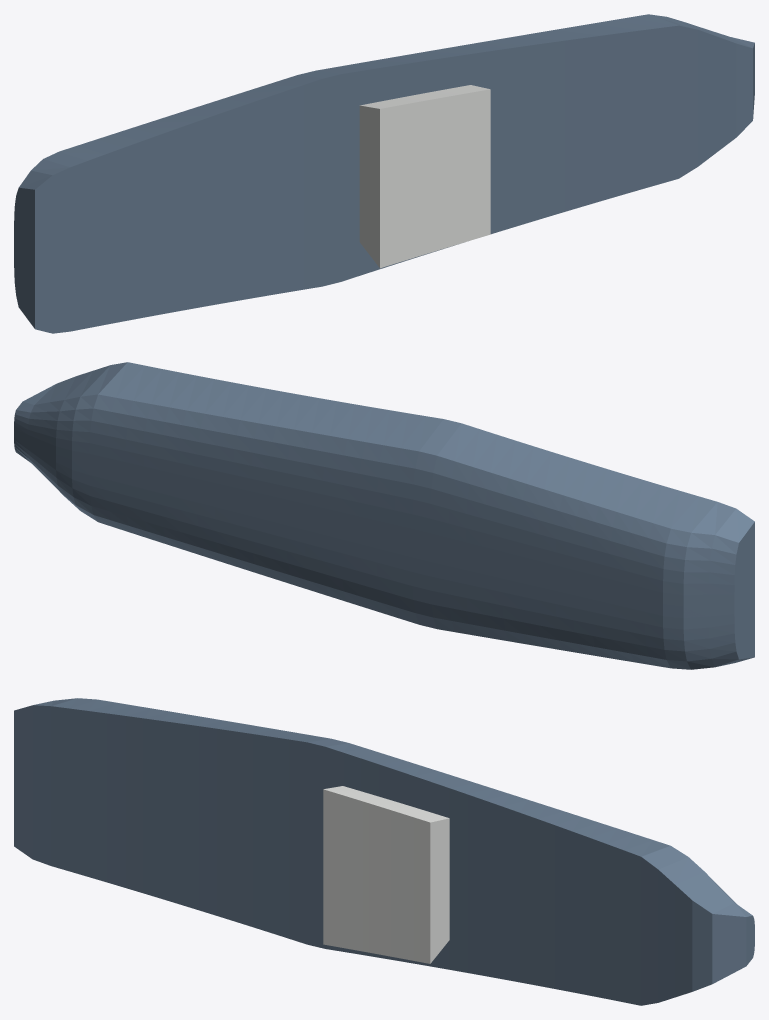
Rendered from loft-open-sheered.glb.
3 views of the same model, one above another, from view 1: azimuth 30°, elevation 25°; view 2: azimuth 150°, elevation 25°; view 3: azimuth 330°, elevation 25° (orthographic). The views are drawn at different scales.
Parts seen in each view (by area): view 1: loft-open-sheered; view 2: loft-open-sheered; view 3: loft-open-sheered.
Boxes of the visible parts, x1,y1,x2,y2 form: loft-open-sheered: [14, 14, 754, 333]; loft-open-sheered: [14, 362, 754, 669]; loft-open-sheered: [14, 698, 754, 1005].
Bounding box in the file's own units: 1.7 × 0.4588 × 0.2129.
